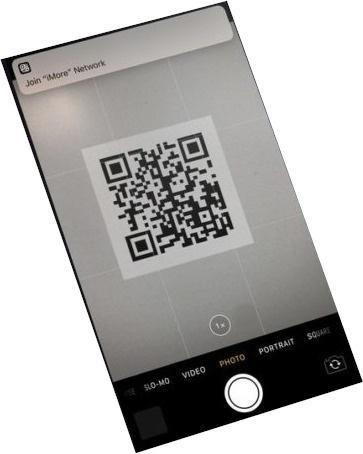Finder pattern: (122, 225, 160, 264), (97, 151, 133, 183), (176, 129, 209, 163)
